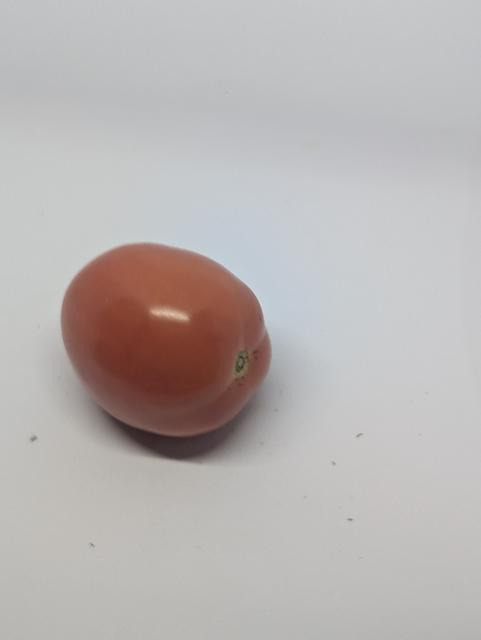red: (59, 224, 275, 455)
